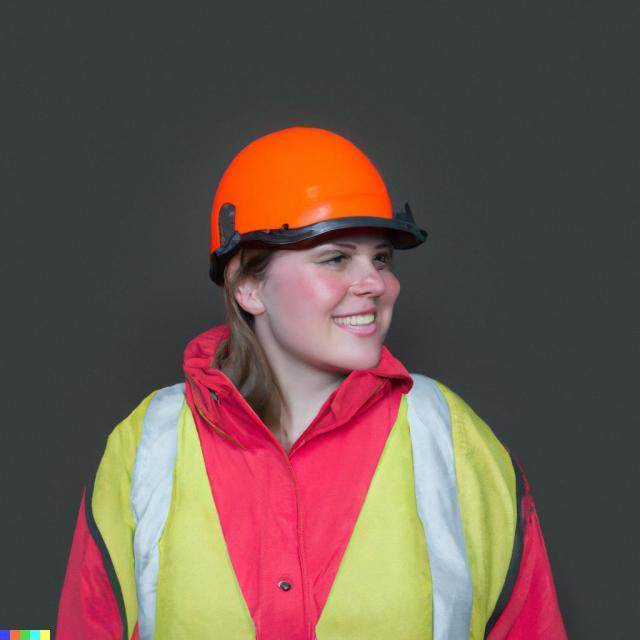Reflective-Jacket: (78, 353, 542, 640)
Safety-Helmet: (205, 120, 426, 261)
